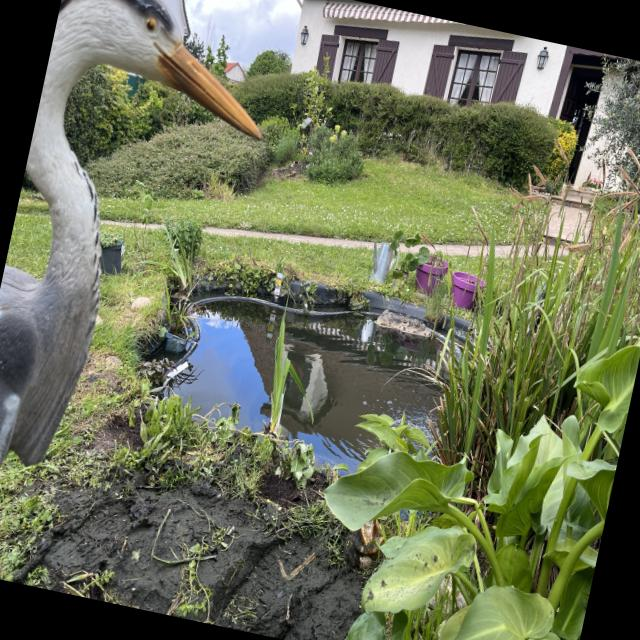Heron: (0, 0, 313, 603)
